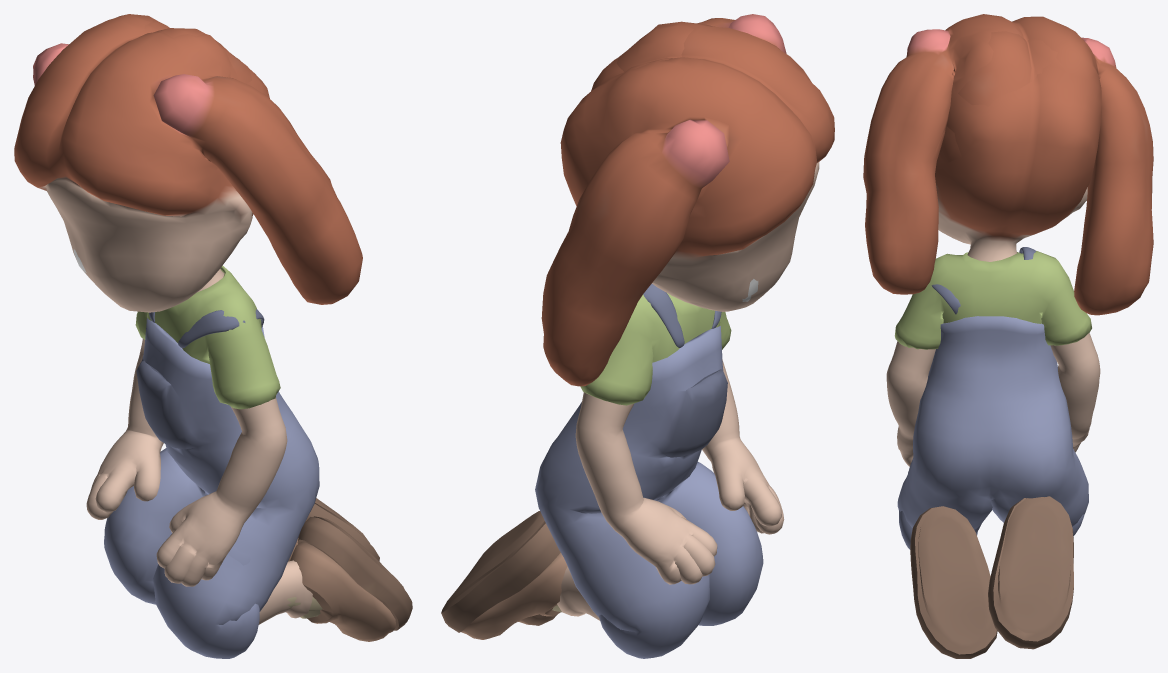
3 renders of one model, left to right at view 1: azimuth 30°, elevation 25°; view 2: azimuth 150°, elevation 25°; view 3: azimuth 270°, elevation 25°, orthographic. The views are drawn at different scales.
Visible parts, largest first — view 1: Arms.095; view 2: Arms.095; view 3: Arms.095.
Part boxes in pixels (left/top/right/bottom): Arms.095: left=14, top=14, right=412, bottom=658; Arms.095: left=441, top=14, right=834, bottom=658; Arms.095: left=863, top=14, right=1153, bottom=658.
Bounding box in the file's own units: 76.46 × 132 × 63.51.
